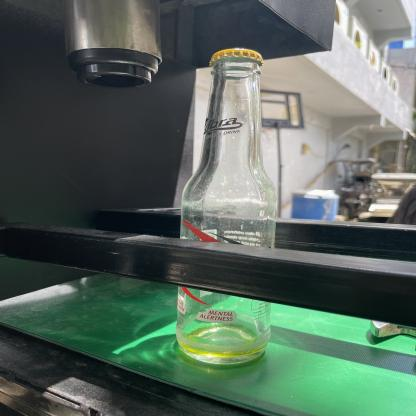Can: (173, 46, 274, 368)
